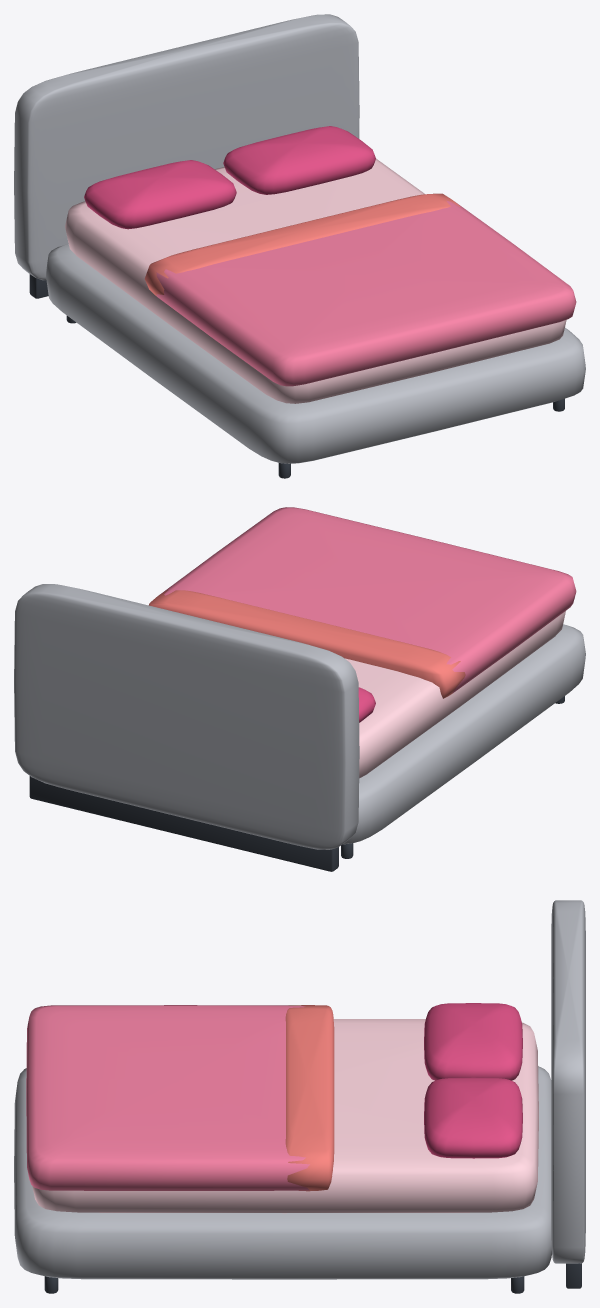
File: cama_casal_estofada_cinza.glb
3 views of the same model, one above another, from view 1: azimuth 30°, elevation 25°; view 2: azimuth 150°, elevation 25°; view 3: azimuth 270°, elevation 25° (orthographic). The views are drawn at different scales.
Visible parts, largest first — view 1: cama_casal_estofada_cinza; view 2: cama_casal_estofada_cinza; view 3: cama_casal_estofada_cinza.
Part boxes in pixels (x1,y1,x2,y2): cama_casal_estofada_cinza: (14, 14, 585, 478); cama_casal_estofada_cinza: (14, 507, 585, 871); cama_casal_estofada_cinza: (14, 900, 585, 1293).
Bounding box in the file's own units: 1.58 × 1 × 2.13.
Materials: 1 (1 with a texture image).
